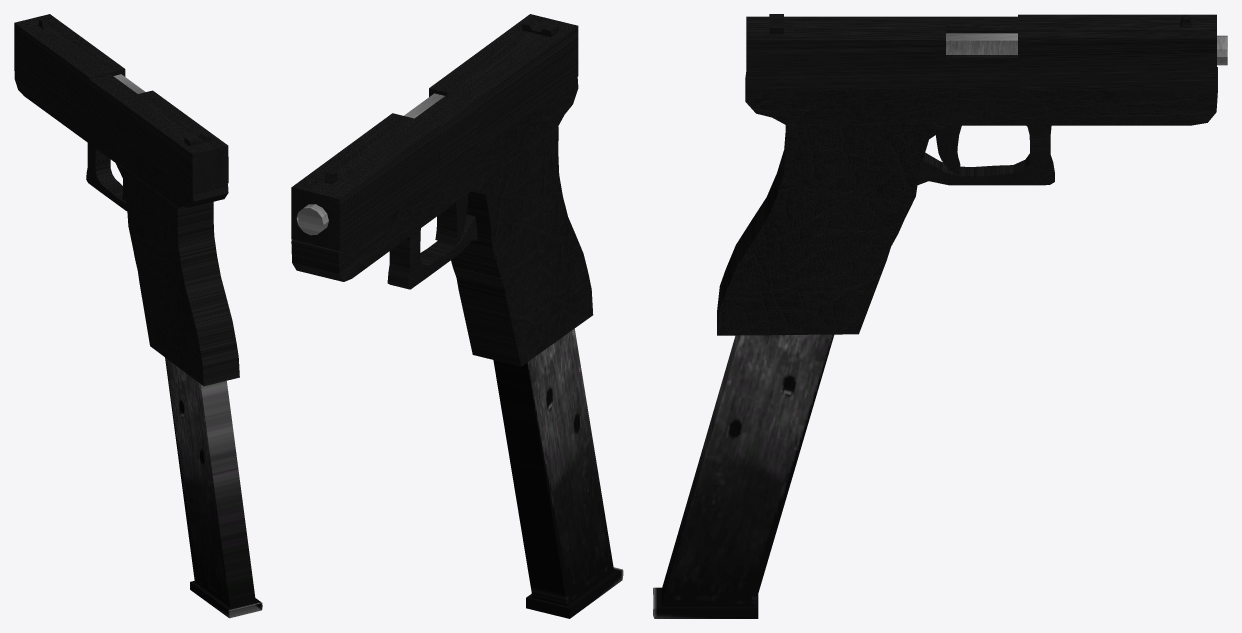
File: glock18_world.fbx
3 views of the same model, side by side, from view 1: azimuth 30°, elevation 25°; view 2: azimuth 150°, elevation 25°; view 3: azimuth 270°, elevation 25° (orthographic). The views are drawn at different scales.
Visible parts, largest first — view 1: glock_grip, glock_slide, glock_clip, glock_body, glock_guard; view 2: glock_slide, glock_clip, glock_grip, glock_body, glock_guard, glock_barrel, glock_trigger; view 3: glock_slide, glock_grip, glock_clip, glock_body, glock_guard, glock_barrel, glock_trigger.
Part boxes in pixels (left/top/right/bottom): glock_grip: left=114, top=160, right=239, bottom=386; glock_slide: left=14, top=14, right=228, bottom=191; glock_clip: left=165, top=357, right=262, bottom=618; glock_body: left=14, top=62, right=228, bottom=207; glock_guard: left=86, top=143, right=127, bottom=210; glock_slide: left=291, top=14, right=578, bottom=251; glock_clip: left=493, top=329, right=623, bottom=618; glock_grip: left=451, top=126, right=593, bottom=366; glock_body: left=291, top=77, right=578, bottom=281; glock_guard: left=387, top=214, right=477, bottom=289; glock_barrel: left=296, top=93, right=444, bottom=235; glock_trigger: left=435, top=194, right=468, bottom=244; glock_slide: left=746, top=14, right=1216, bottom=89; glock_grip: left=717, top=123, right=952, bottom=335; glock_clip: left=653, top=334, right=834, bottom=618; glock_body: left=745, top=67, right=1217, bottom=125; glock_guard: left=917, top=125, right=1054, bottom=185; glock_barrel: left=946, top=33, right=1227, bottom=65; glock_trigger: left=935, top=125, right=961, bottom=173.
Bounding box in the file's own units: 1.01 × 11.8 × 10.42.
3 materials, 3 textured.
